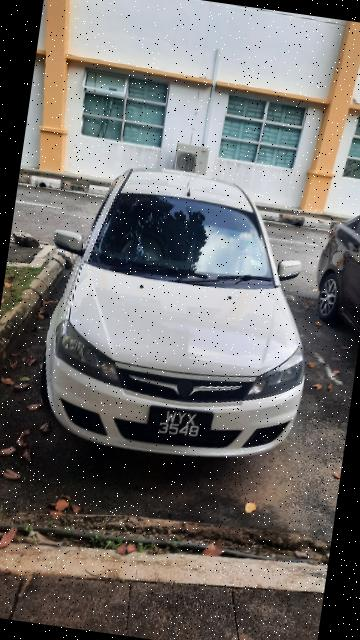License_Plate: (143, 403, 222, 443)
car: (23, 147, 337, 476)
